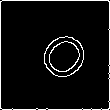O_SW: (21, 22, 89, 88)
